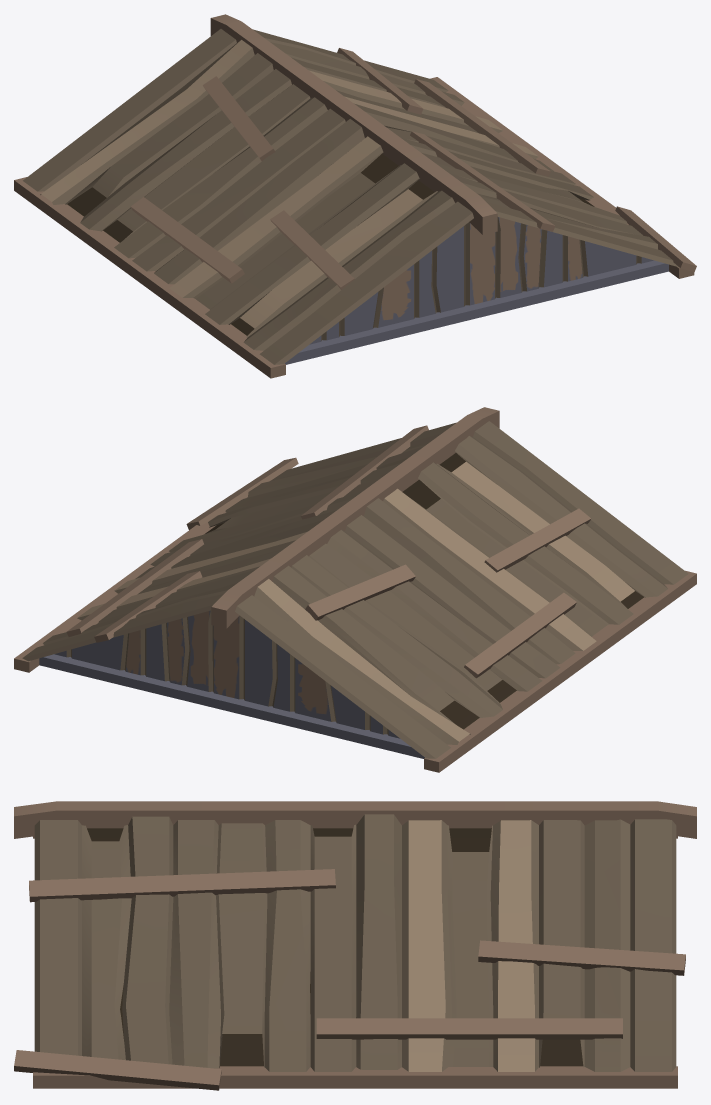
File: SM_Bld_Shanty_Roof_03.fbx
3 renders of one model, top to bottom at view 1: azimuth 30°, elevation 25°; view 2: azimuth 150°, elevation 25°; view 3: azimuth 270°, elevation 25°, orthographic. The views are drawn at different scales.
Visible parts, largest first — view 1: SM_Bld_Shanty_Roof_03; view 2: SM_Bld_Shanty_Roof_03; view 3: SM_Bld_Shanty_Roof_03.
Part boxes in pixels (box(x1,y1,x2,y2)): SM_Bld_Shanty_Roof_03: box(14, 14, 696, 378); SM_Bld_Shanty_Roof_03: box(14, 407, 696, 772); SM_Bld_Shanty_Roof_03: box(14, 801, 696, 1090).
Bounding box in the file's own units: 5.48 × 1.47 × 5.94.
